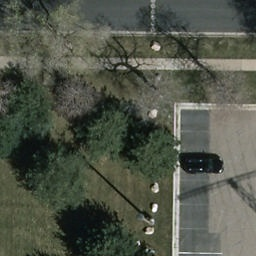car: (180, 158, 224, 175)
